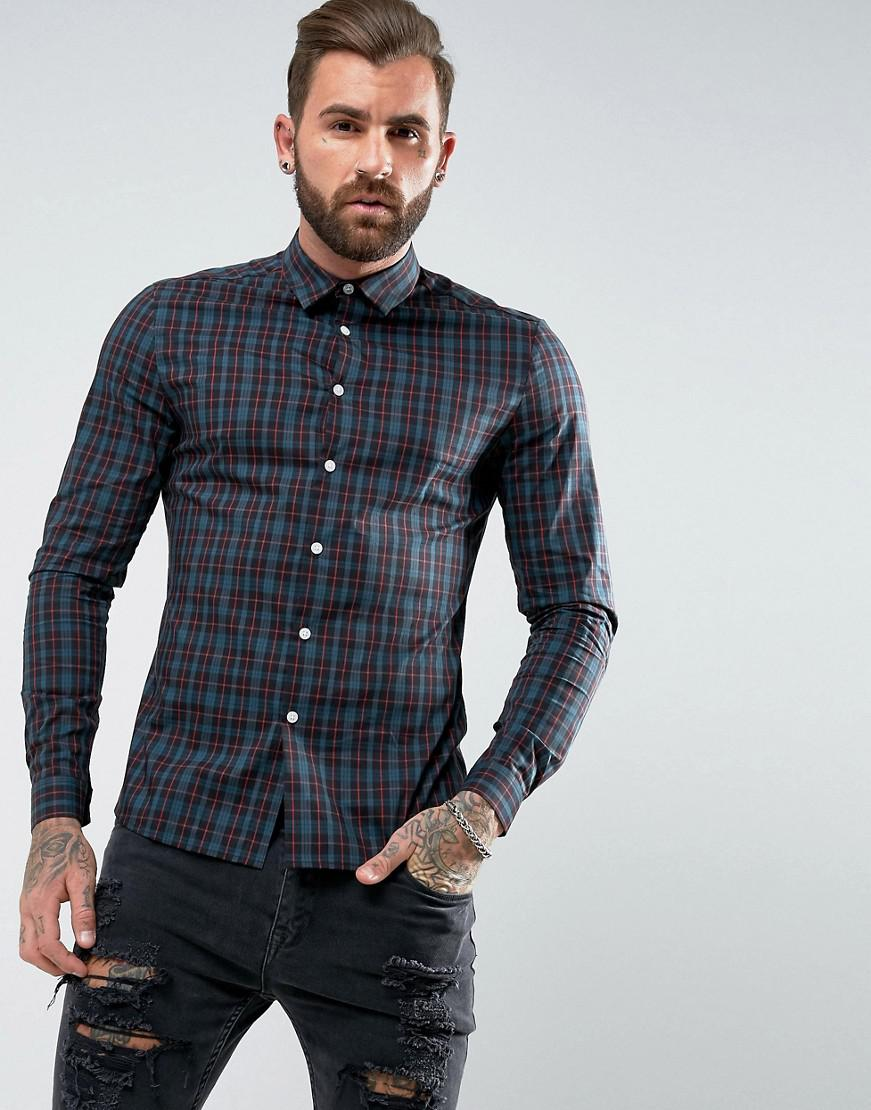teeshirt: (22, 247, 661, 864)
